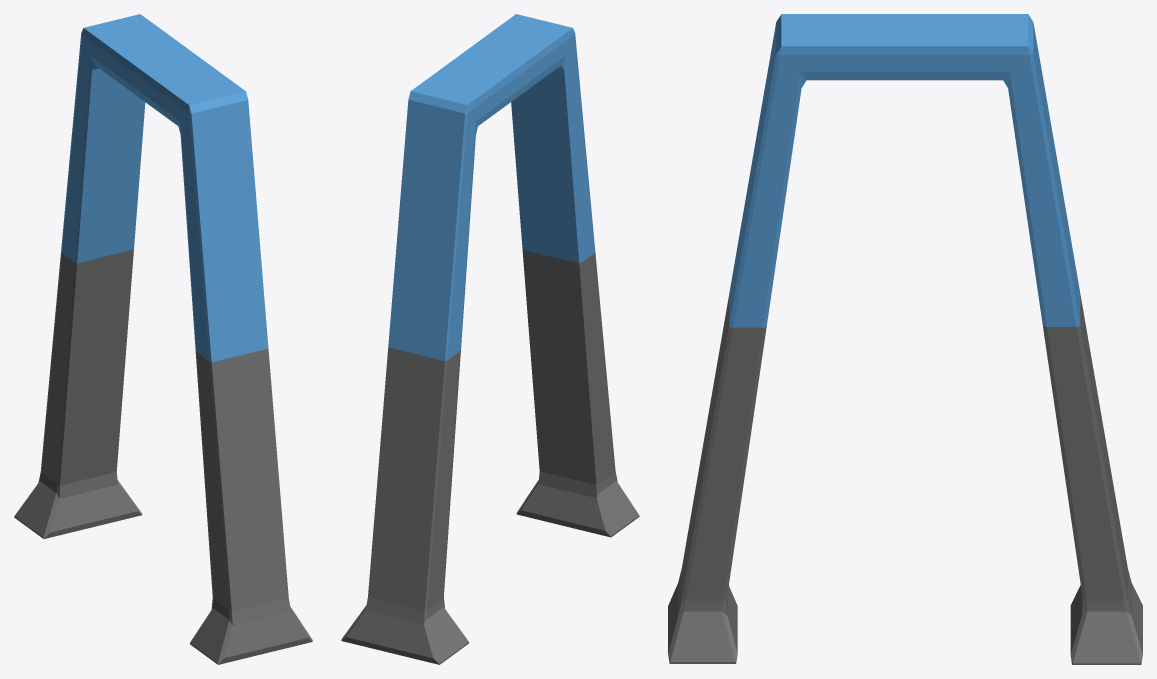
File: portal.fbx
The picture shows the model from 3 angles, left to right: view 1: azimuth 30°, elevation 25°; view 2: azimuth 150°, elevation 25°; view 3: azimuth 270°, elevation 25°; orthographic projection. The views are drawn at different scales.
Parts seen in each view (by area): view 1: Cube, Cube.001; view 2: Cube, Cube.001; view 3: Cube.001, Cube.
Part boxes in pixels (bbox=[...]): Cube: bbox=[14, 249, 312, 664]; Cube.001: bbox=[61, 14, 268, 362]; Cube: bbox=[341, 250, 639, 664]; Cube.001: bbox=[388, 14, 595, 360]; Cube.001: bbox=[729, 14, 1080, 327]; Cube: bbox=[668, 294, 1142, 664].
Size of the model in its own units: 128 by 648 by 459.
